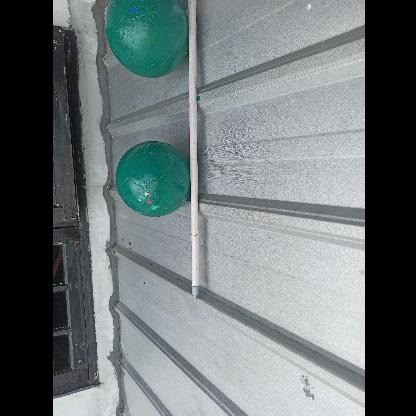green_ball: (104, 0, 196, 76), (113, 142, 190, 220)
